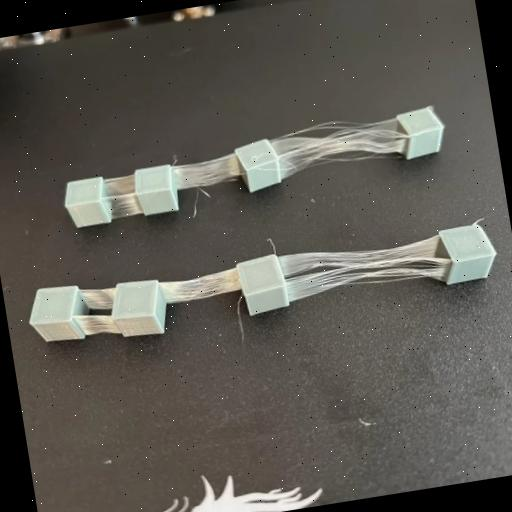stringing: (272, 226, 454, 300), (260, 109, 414, 179), (147, 263, 246, 308), (162, 149, 243, 195), (95, 172, 148, 220)
